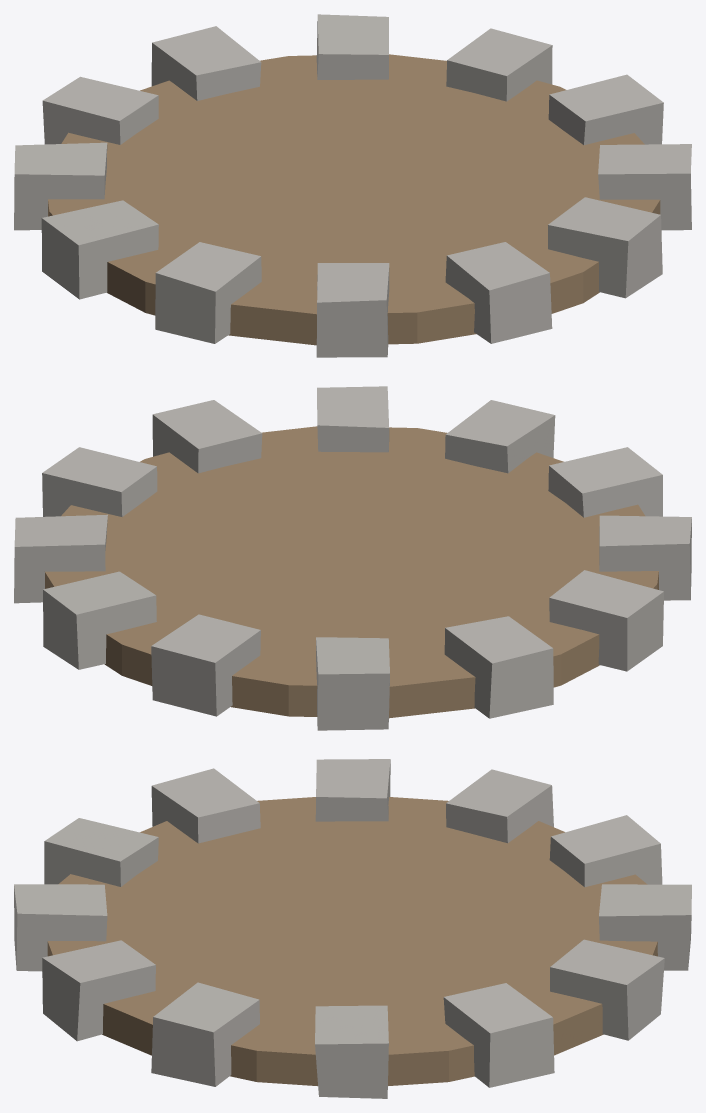
The model's file is building_hut_foundation.glb.
3 renders of one model, top to bottom at view 1: azimuth 30°, elevation 25°; view 2: azimuth 150°, elevation 25°; view 3: azimuth 270°, elevation 25°, orthographic.
Visible parts, largest first — view 1: building_hut_foundation; view 2: building_hut_foundation; view 3: building_hut_foundation.
Boxes of the visible parts, left/top/right/bottom form: building_hut_foundation: left=14, top=14, right=691, bottom=357; building_hut_foundation: left=14, top=386, right=691, bottom=730; building_hut_foundation: left=14, top=759, right=691, bottom=1098.
Bounding box in the file's own units: 2.55 × 0.2428 × 2.55.
